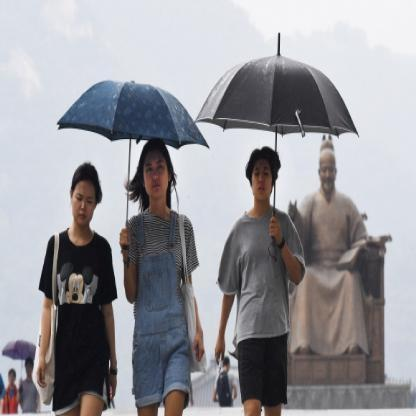Umbrella: (29, 40, 216, 188), (191, 35, 361, 168)
